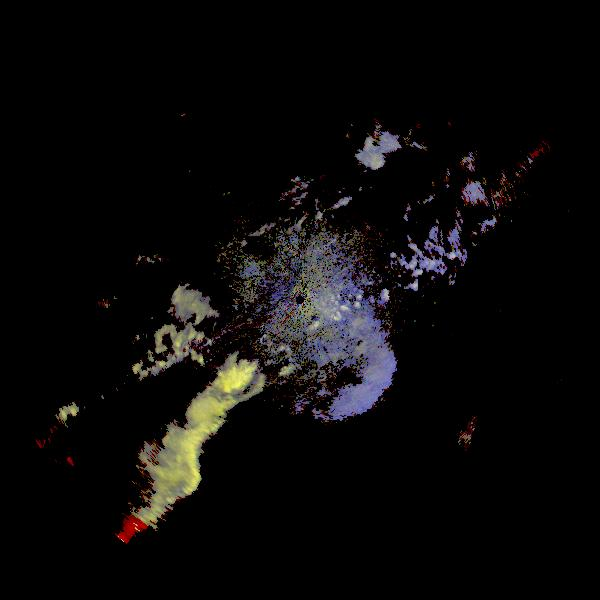roost: (222, 262, 411, 451)
